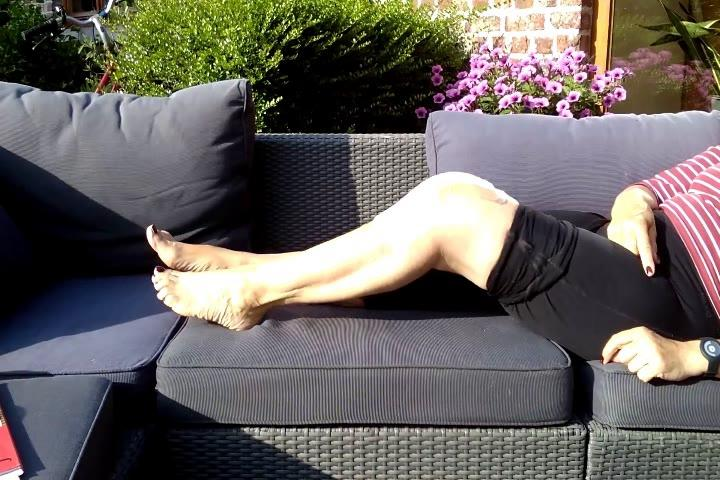lower_body: (139, 164, 708, 374)
